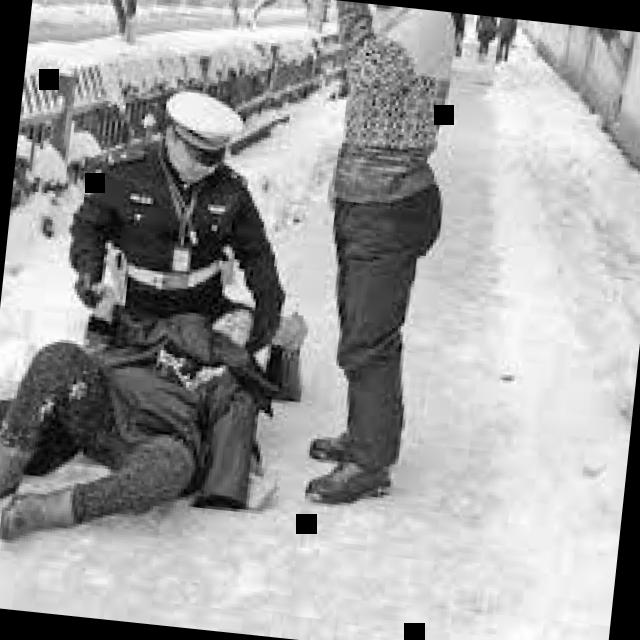Fall-Detected: (0, 263, 316, 577)
